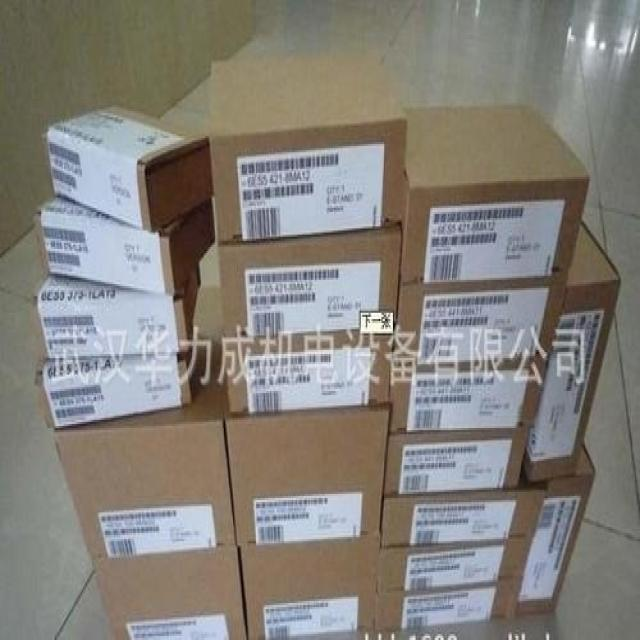Carton: (47, 54, 616, 638), (36, 210, 209, 426), (218, 233, 403, 333)
